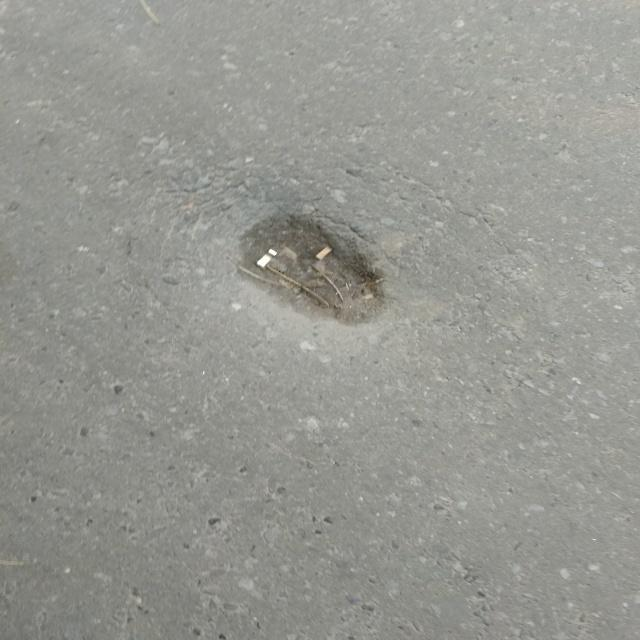Pothole: (231, 208, 397, 364)
